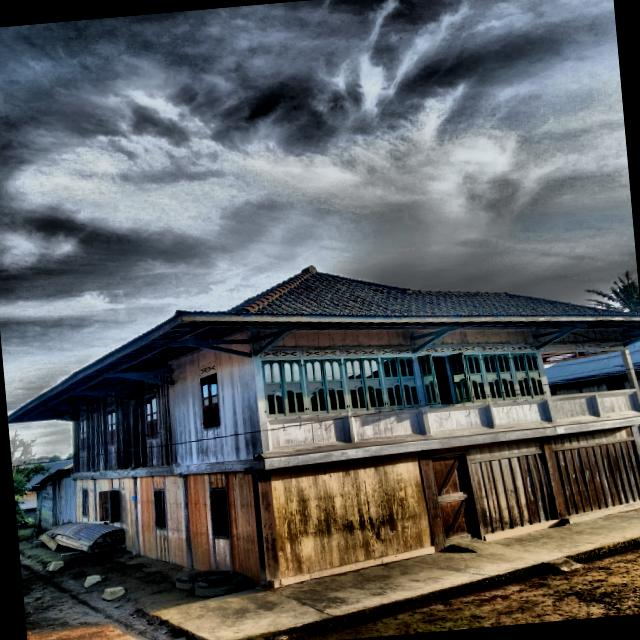door: (431, 454, 478, 544)
ornamen: (267, 414, 351, 451), (351, 409, 427, 442), (426, 403, 494, 435), (491, 399, 552, 428), (550, 394, 600, 422), (597, 391, 640, 416)
roof: (7, 266, 640, 422), (545, 351, 624, 383), (27, 459, 73, 489), (629, 342, 640, 369)
wall: (260, 328, 427, 457), (269, 451, 433, 579), (416, 329, 553, 439), (171, 349, 257, 465), (466, 436, 558, 535), (185, 471, 261, 585), (549, 426, 640, 516), (136, 474, 187, 567), (132, 378, 173, 467), (95, 477, 135, 551), (94, 396, 132, 472), (71, 410, 94, 472), (57, 477, 75, 526), (75, 479, 94, 522)
window: (417, 352, 473, 405), (261, 359, 307, 417), (303, 358, 347, 414), (344, 357, 386, 411), (380, 356, 421, 408), (480, 353, 518, 401), (510, 352, 547, 399), (459, 354, 487, 403), (200, 372, 220, 429), (210, 490, 228, 536), (98, 489, 119, 523), (145, 394, 158, 439), (154, 490, 165, 528), (106, 408, 115, 446), (79, 417, 86, 451), (82, 489, 88, 516)
